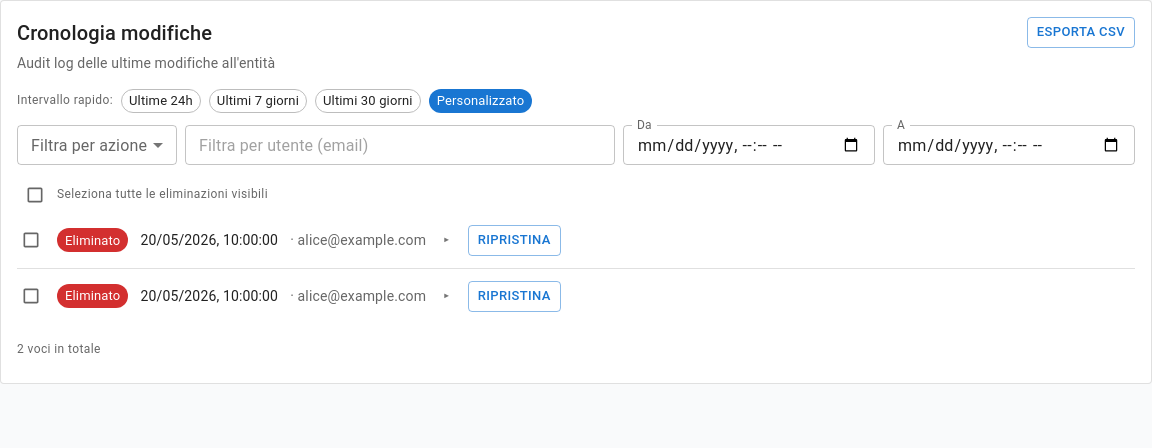
AuditHistoryPanel › master checkbox uncheck clears all visible DELETE selections
This screenshot has width=1152, height=448.
Expected: the text "Eliminato" is shown 2 times, [65,233,120,248]; [65,288,120,303]
Select all
Step 1. Click the checkbox named "Seleziona tutte le eliminazioni visibili" → (35, 195), box [25,185,45,205]
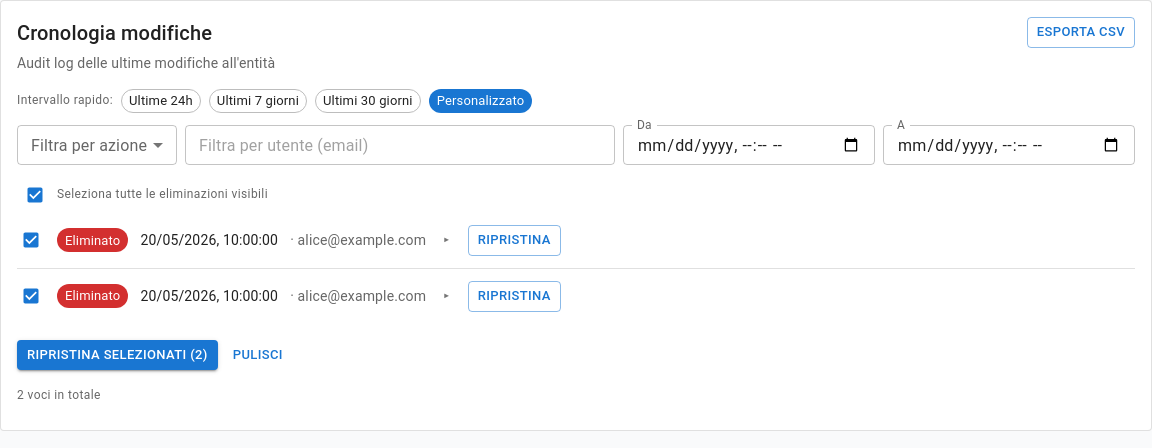
Expected: the button "Ripristina selezionati (2)" is shown, [17,340,218,370]
Unselect all
Step 2. Click the checkbox named "Seleziona tutte le eliminazioni visibili" → (35, 195), box [25,185,45,205]
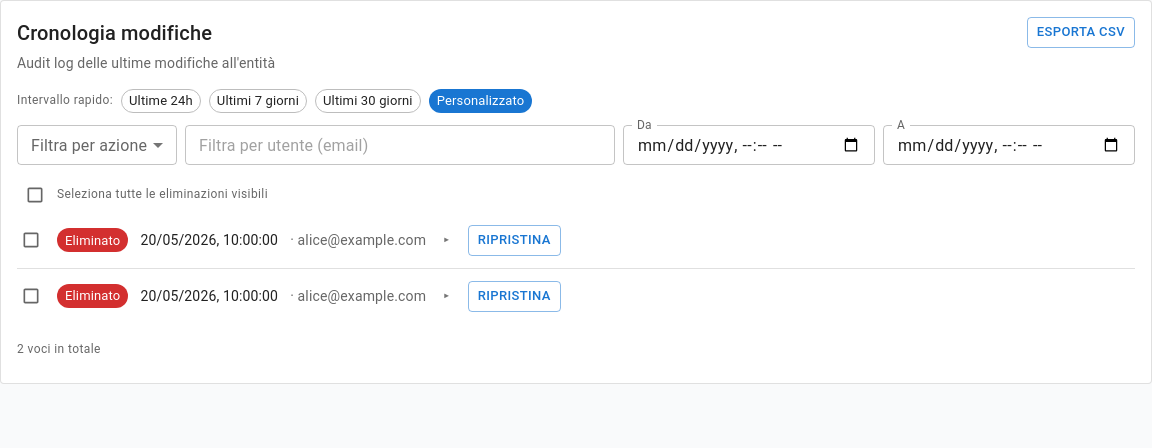
Expected: the button "Ripristina selezionati" is gone
